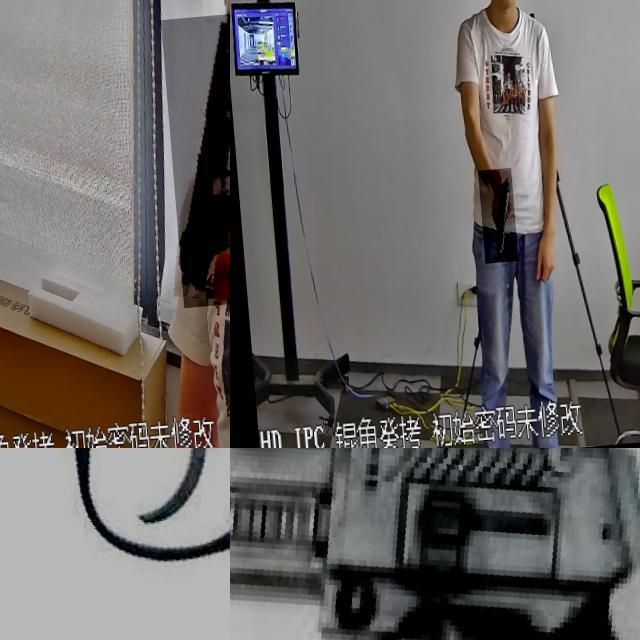gun-knife-thesis - v11 Yolov5 augmented: (230, 448, 640, 640), (0, 448, 230, 640), (158, 17, 230, 313), (472, 173, 511, 268)
